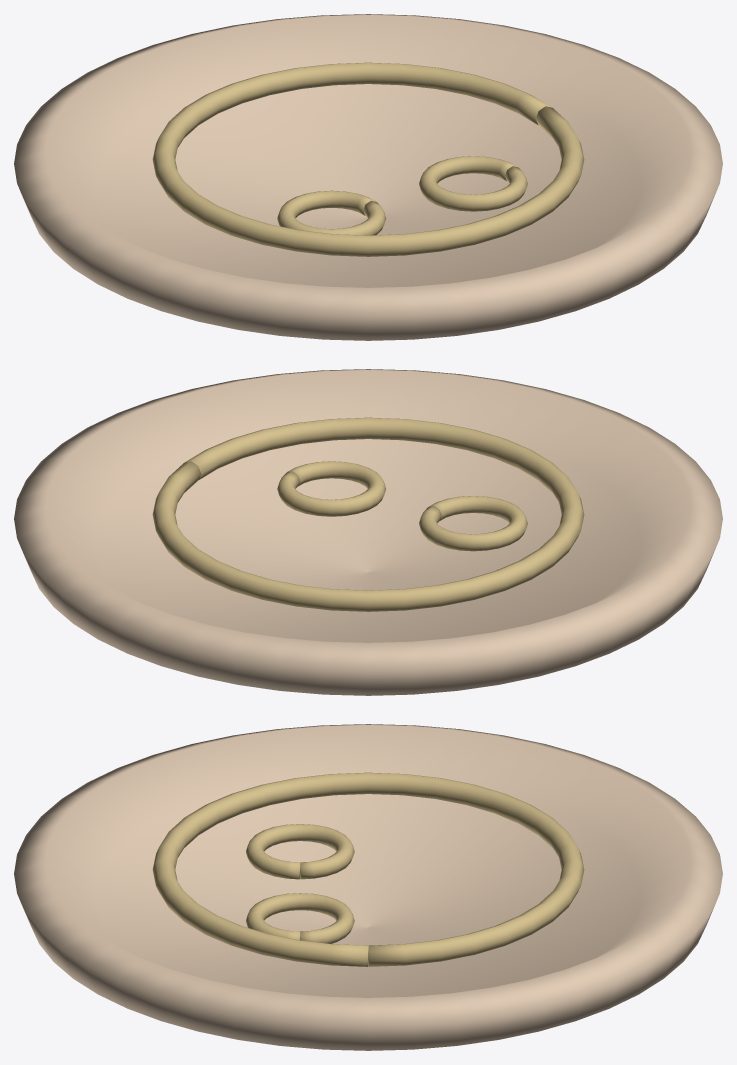
File: jewelry_dish.glb
3 renders of one model, top to bottom at view 1: azimuth 30°, elevation 25°; view 2: azimuth 150°, elevation 25°; view 3: azimuth 270°, elevation 25°, orthographic.
Visible parts, largest first — view 1: jewelry_dish__body, jewelry_dish__accent; view 2: jewelry_dish__body, jewelry_dish__accent; view 3: jewelry_dish__body, jewelry_dish__accent.
Boxes of the visible parts, bbox=[...] form: jewelry_dish__body: bbox=[14, 14, 722, 340]; jewelry_dish__accent: bbox=[152, 62, 584, 256]; jewelry_dish__body: bbox=[14, 369, 722, 695]; jewelry_dish__accent: bbox=[152, 417, 584, 611]; jewelry_dish__body: bbox=[14, 724, 722, 1050]; jewelry_dish__accent: bbox=[152, 772, 584, 966].
Bounding box in the file's own units: 0.156 × 0.0255 × 0.156.
